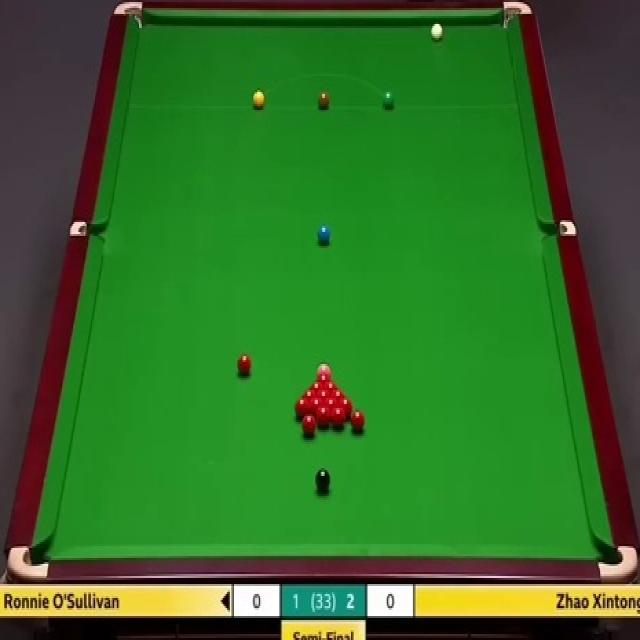black-ball: (314, 467, 331, 493)
blue-ball: (316, 223, 331, 245)
brown-ball: (316, 88, 331, 110)
green-ball: (380, 90, 395, 110)
pink-ball: (316, 362, 332, 377)
red-ball: (236, 353, 253, 378), (350, 410, 367, 434), (293, 396, 311, 416), (302, 413, 318, 435), (331, 406, 346, 428), (316, 406, 332, 426), (326, 398, 339, 417), (340, 397, 352, 415), (311, 397, 325, 412), (331, 389, 347, 398), (315, 374, 332, 382), (317, 390, 333, 398), (308, 382, 324, 390), (303, 389, 317, 398), (323, 382, 338, 389)
white-ball: (429, 21, 444, 43)
yellow-ball: (252, 88, 265, 109)
